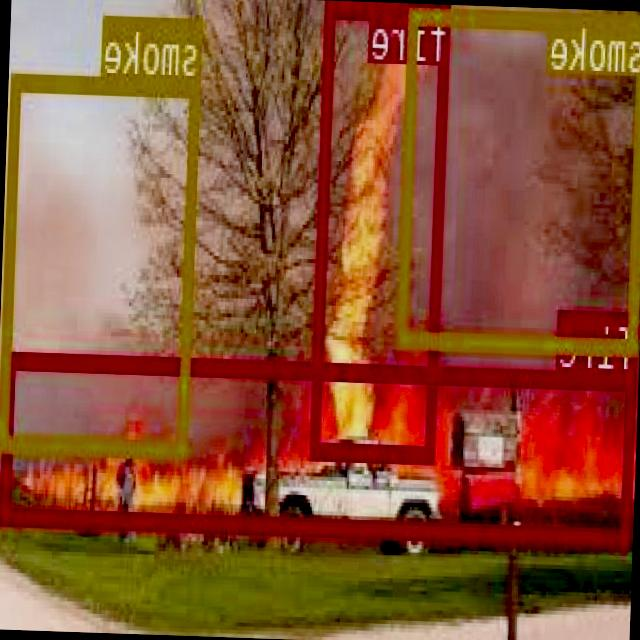fire: (2, 350, 638, 542), (312, 0, 452, 457)
smoke: (398, 4, 640, 352), (2, 72, 201, 453)
